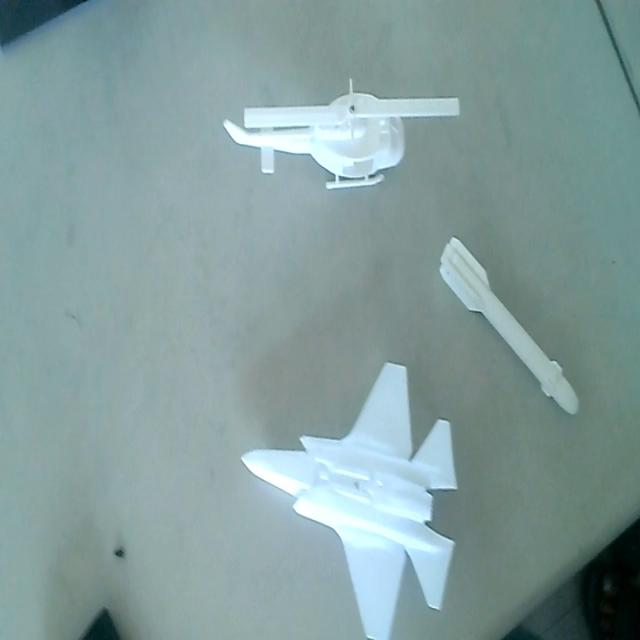Helicopter: (219, 84, 460, 195)
Jet: (238, 359, 456, 640)
Rocket: (439, 232, 584, 428)
